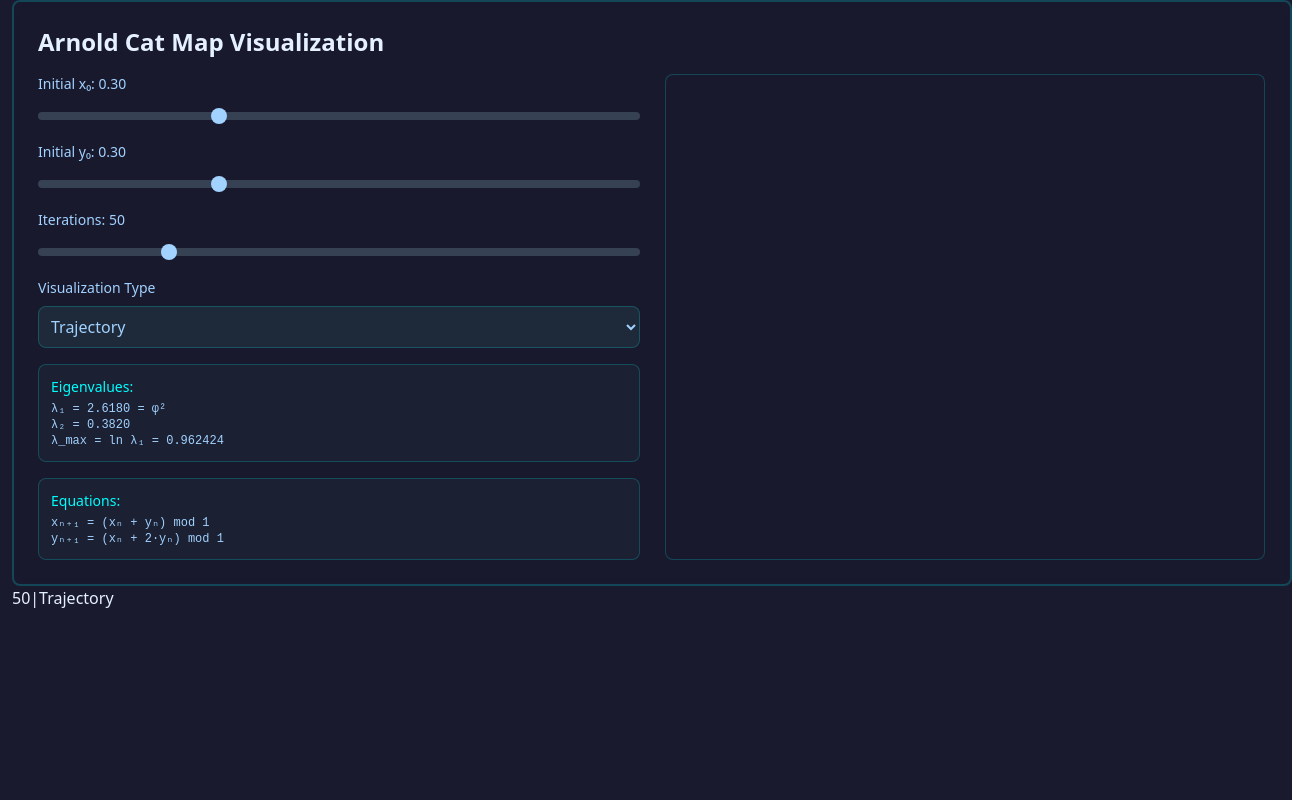
it: Arnold view publish › properties view publishes null instead of keeping the trajectory series
Expected: the text with test id "drawn-series" reads "50|Trajectory", left=12, top=587, right=114, bottom=609
Select "Matrix Properties" in the dropdown at x=339, y=327, box left=38, top=306, right=640, bottom=348
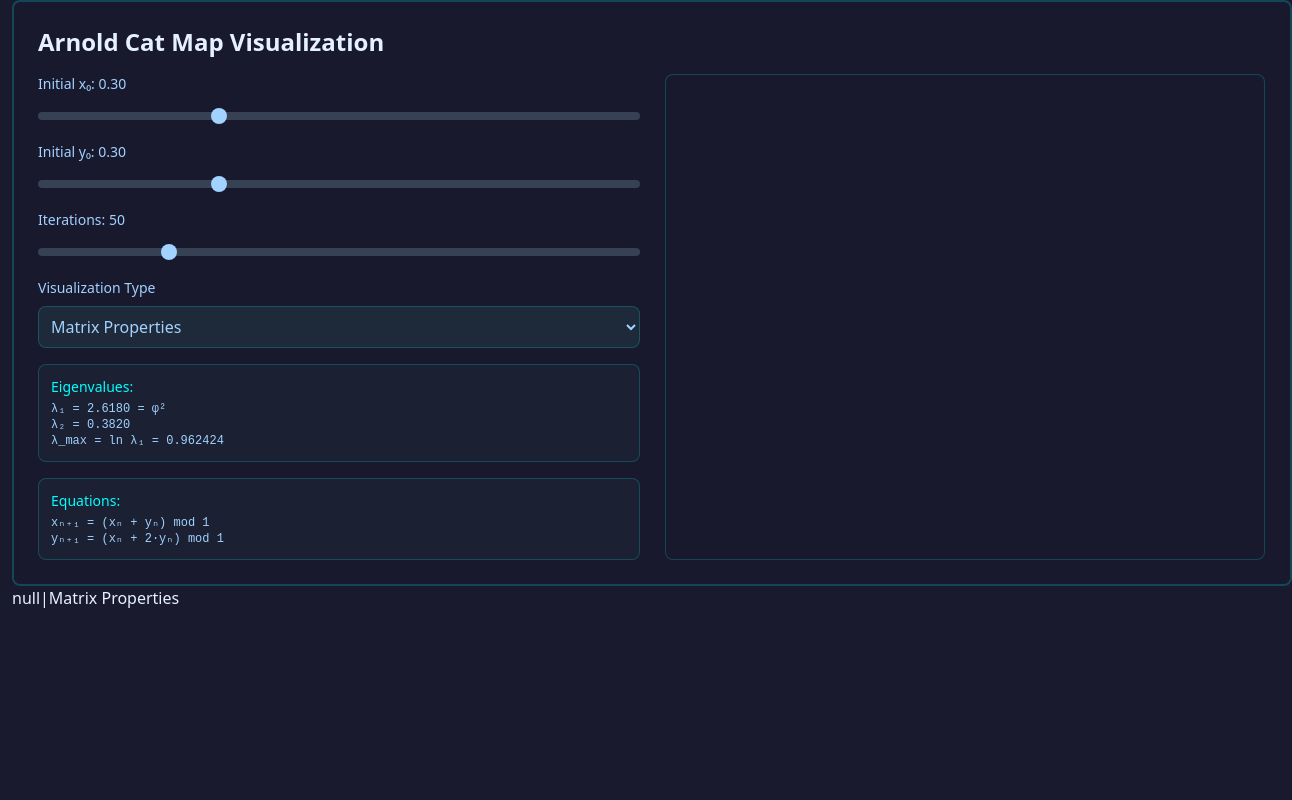
Now the text with test id "drawn-series" reads "null|Matrix Properties", box left=12, top=587, right=179, bottom=609
